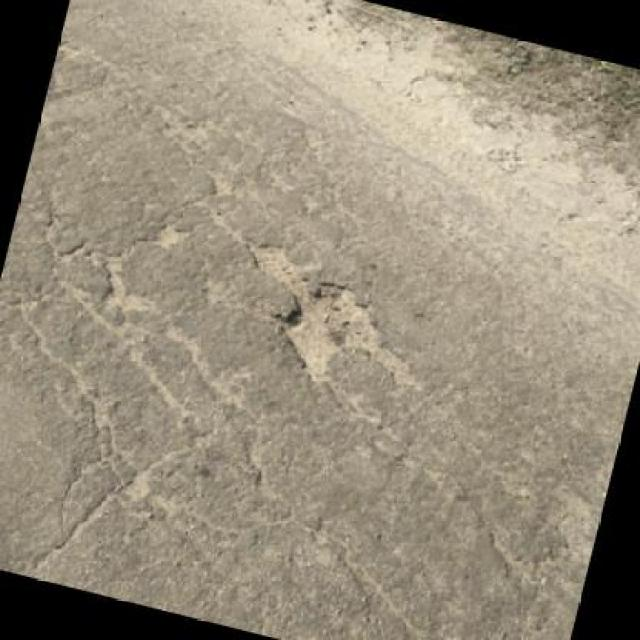pothole: (218, 234, 434, 403)
